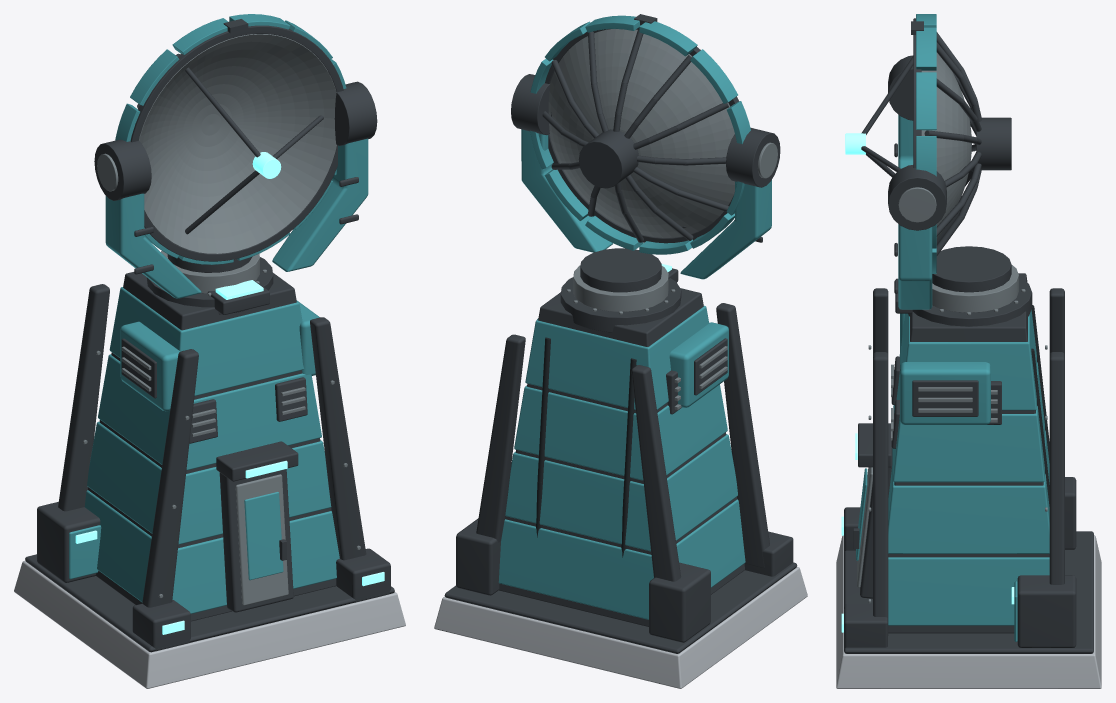
File: outpost-b.glb
3 renders of one model, left to right at view 1: azimuth 30°, elevation 25°; view 2: azimuth 150°, elevation 25°; view 3: azimuth 270°, elevation 25°, orthographic. The views are drawn at different scales.
Parts seen in each view (by area): view 1: modelRoot-team-primary, modelRoot-structure, antennaYaw-neutral-metal, modelRoot-foundation-concrete, antennaYaw-team-primary, antennaYaw-structure, modelRoot-neutral-metal, modelRoot-team-emissive; view 2: modelRoot-team-primary, modelRoot-structure, antennaYaw-neutral-metal, antennaYaw-structure, antennaYaw-team-primary, modelRoot-foundation-concrete, modelRoot-neutral-metal, modelRoot-rubber; view 3: modelRoot-team-primary, modelRoot-structure, modelRoot-foundation-concrete, antennaYaw-structure, antennaYaw-team-primary, antennaYaw-neutral-metal, modelRoot-neutral-metal, modelRoot-rubber, antennaYaw-team-emissive.
Part boxes in pixels (x1=…): modelRoot-team-primary: x1=69, y1=287, x2=339, y2=613; modelRoot-structure: x1=25, y1=254, x2=394, y2=652; antennaYaw-neutral-metal: x1=97, y1=34, x2=336, y2=253; modelRoot-foundation-concrete: x1=14, y1=560, x2=405, y2=688; antennaYaw-team-primary: x1=105, y1=14, x2=368, y2=298; antennaYaw-structure: x1=94, y1=19, x2=377, y2=274; modelRoot-neutral-metal: x1=83, y1=251, x2=360, y2=605; modelRoot-team-emissive: x1=75, y1=280, x2=384, y2=634; modelRoot-team-primary: x1=498, y1=305, x2=745, y2=619; modelRoot-structure: x1=444, y1=248, x2=797, y2=653; antennaYaw-neutral-metal: x1=548, y1=29, x2=777, y2=237; antennaYaw-structure: x1=511, y1=14, x2=780, y2=243; antennaYaw-team-primary: x1=521, y1=15, x2=771, y2=279; modelRoot-foundation-concrete: x1=434, y1=566, x2=807, y2=688; modelRoot-neutral-metal: x1=566, y1=265, x2=727, y2=410; modelRoot-rubber: x1=536, y1=337, x2=636, y2=557; modelRoot-team-primary: x1=856, y1=309, x2=1049, y2=641; modelRoot-structure: x1=844, y1=246, x2=1093, y2=653; modelRoot-foundation-concrete: x1=836, y1=535, x2=1101, y2=688; antennaYaw-structure: x1=861, y1=18, x2=1011, y2=293; antennaYaw-team-primary: x1=898, y1=14, x2=936, y2=309; antennaYaw-neutral-metal: x1=898, y1=52, x2=971, y2=240; modelRoot-neutral-metal: x1=857, y1=265, x2=1047, y2=603; modelRoot-rubber: x1=1031, y1=305, x2=1049, y2=506; antennaYaw-team-emissive: x1=845, y1=133, x2=865, y2=154.
Bounding box in the file's own units: 2.03 × 4.51 × 1.81.
